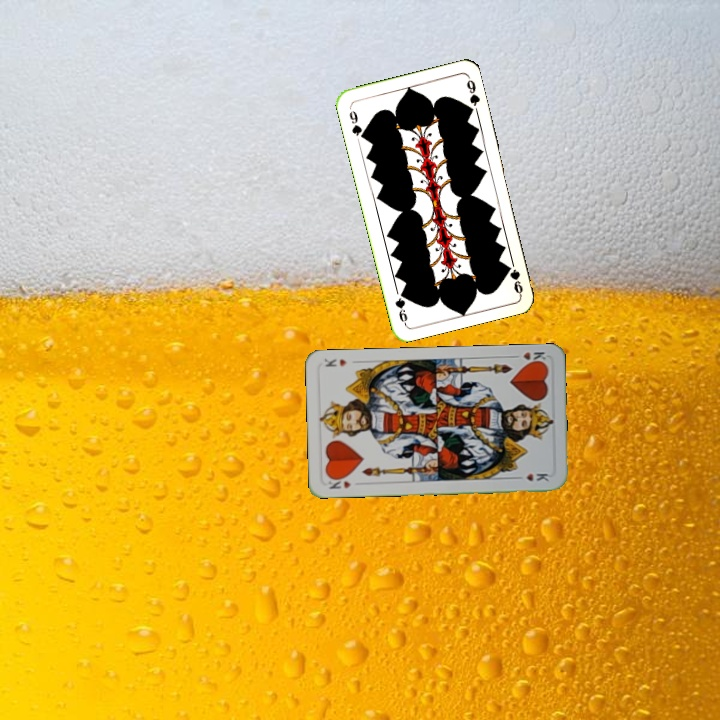G9: (345, 107, 367, 142), (504, 262, 526, 297)
HK: (508, 347, 549, 367), (324, 473, 353, 491)
